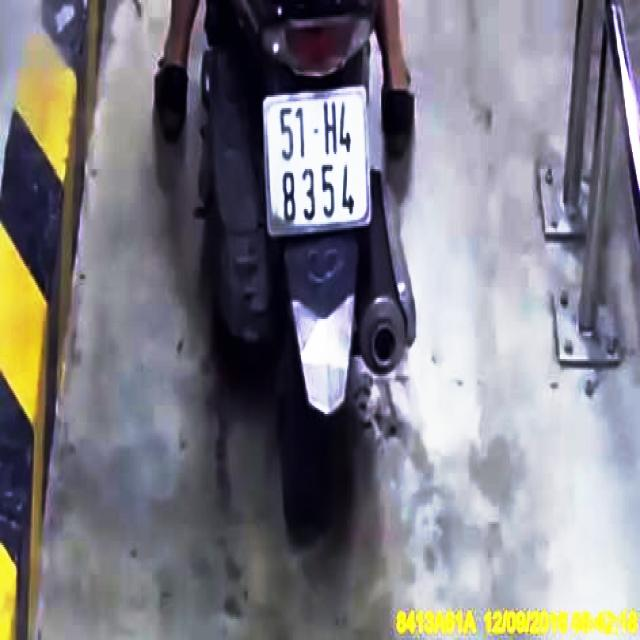license_plate: (264, 85, 373, 239)
